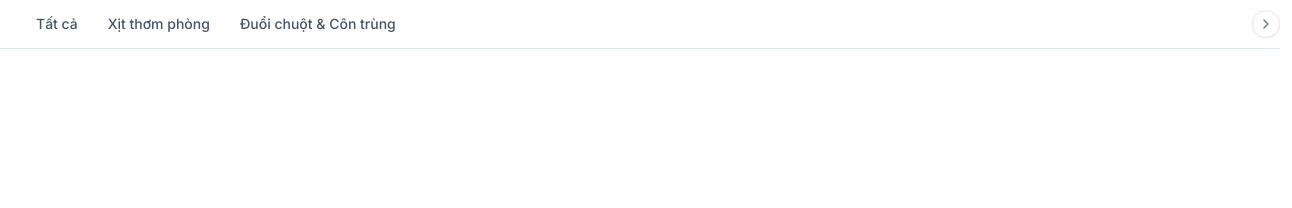
it: CategoryNav › clears active category when mouse leaves navigation bar
Hover over the link "Xịt thơm phòng" at (159, 24), box left=108, top=15, right=210, bottom=32
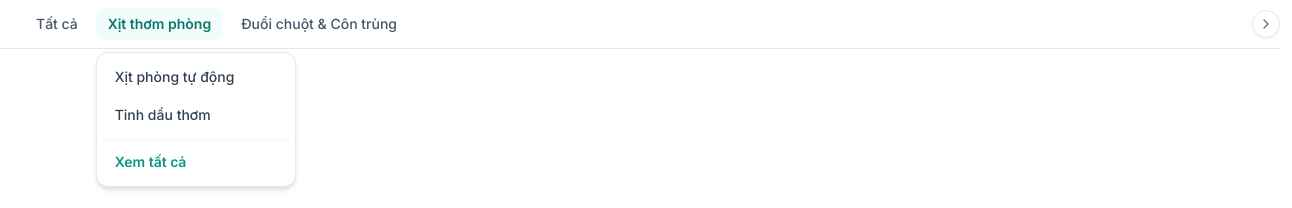
Now the link "Xem tất cả" is shown, box left=115, top=153, right=186, bottom=170
Move the pointer off the element that starts with "Tất cả", box left=0, top=0, right=1280, bottom=49
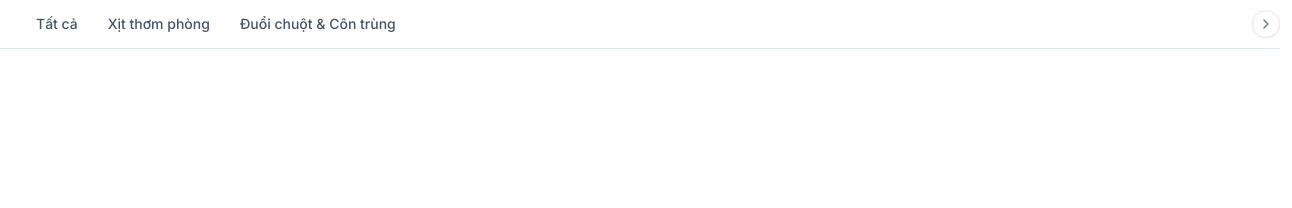
Now the link "Xem tất cả" is gone
